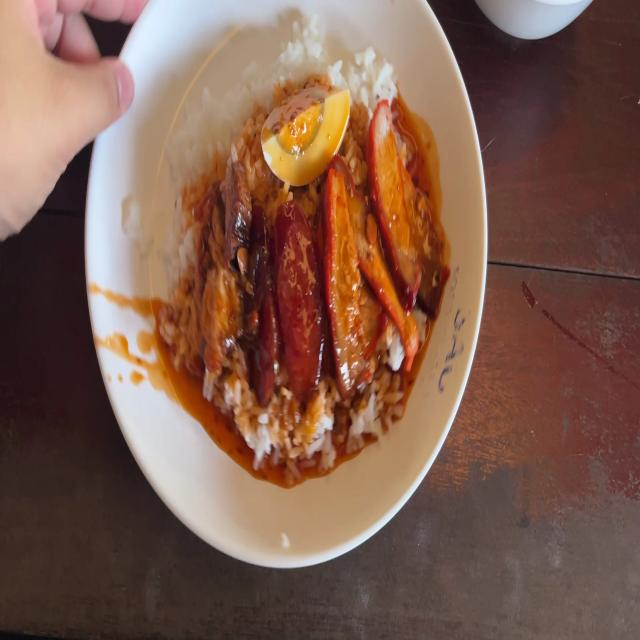01boiled_egg: (270, 93, 353, 172)
01chainese_sausage: (252, 210, 311, 390)
01crispy_pork: (202, 153, 254, 369)
01red_pork: (335, 116, 424, 366)
01red_pork_and_crispy_pork: (181, 48, 432, 446)
01rice: (177, 70, 261, 172), (162, 162, 196, 348)
